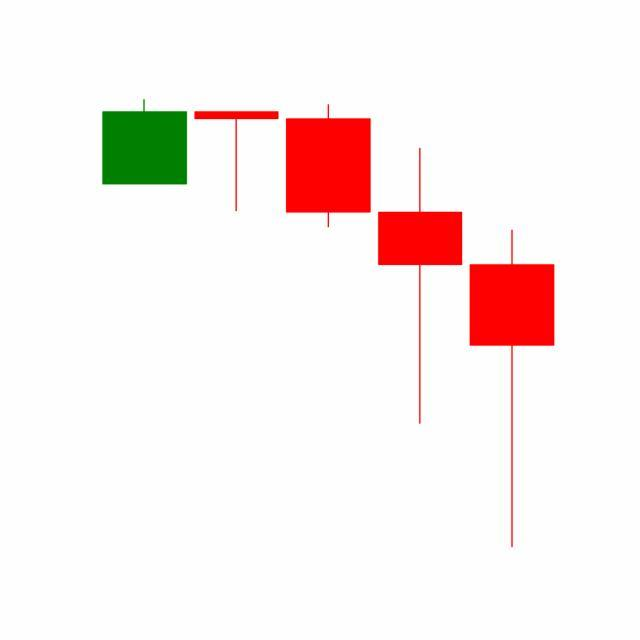Spinning Top: (374, 146, 468, 429)
